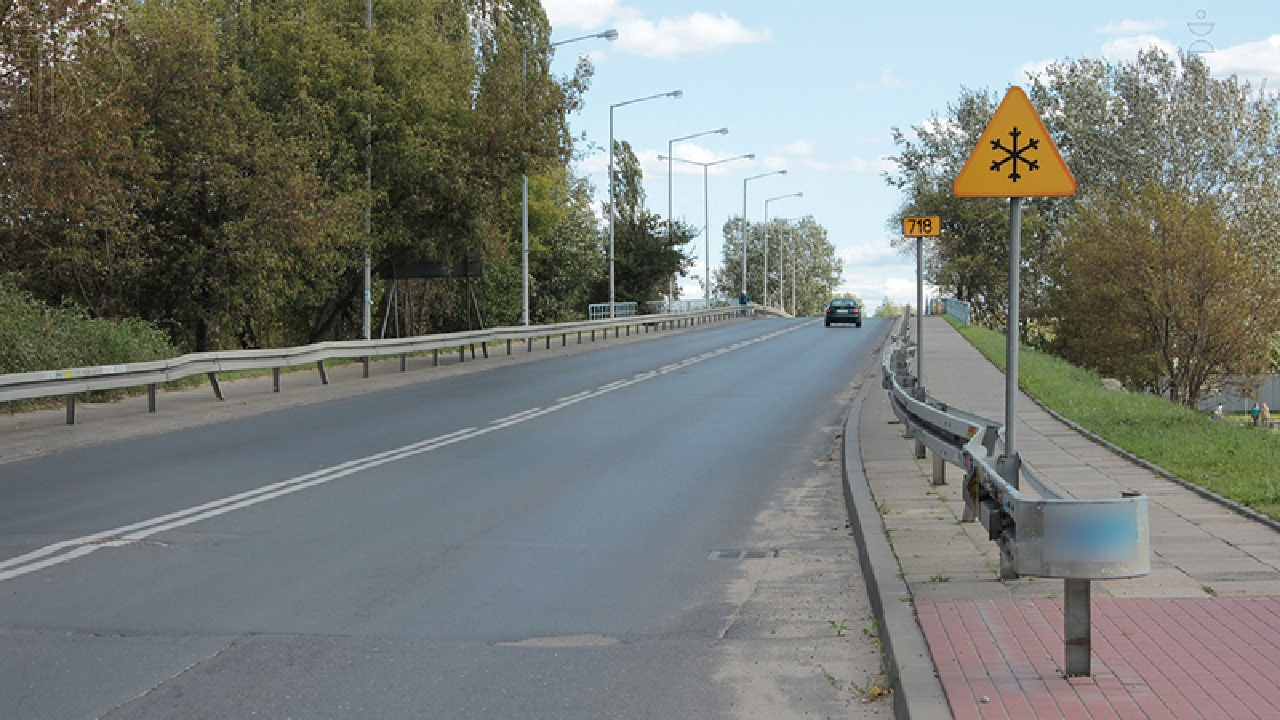A32: (954, 86, 1078, 197)
